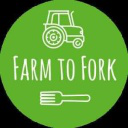fork: (34, 84, 96, 112)
